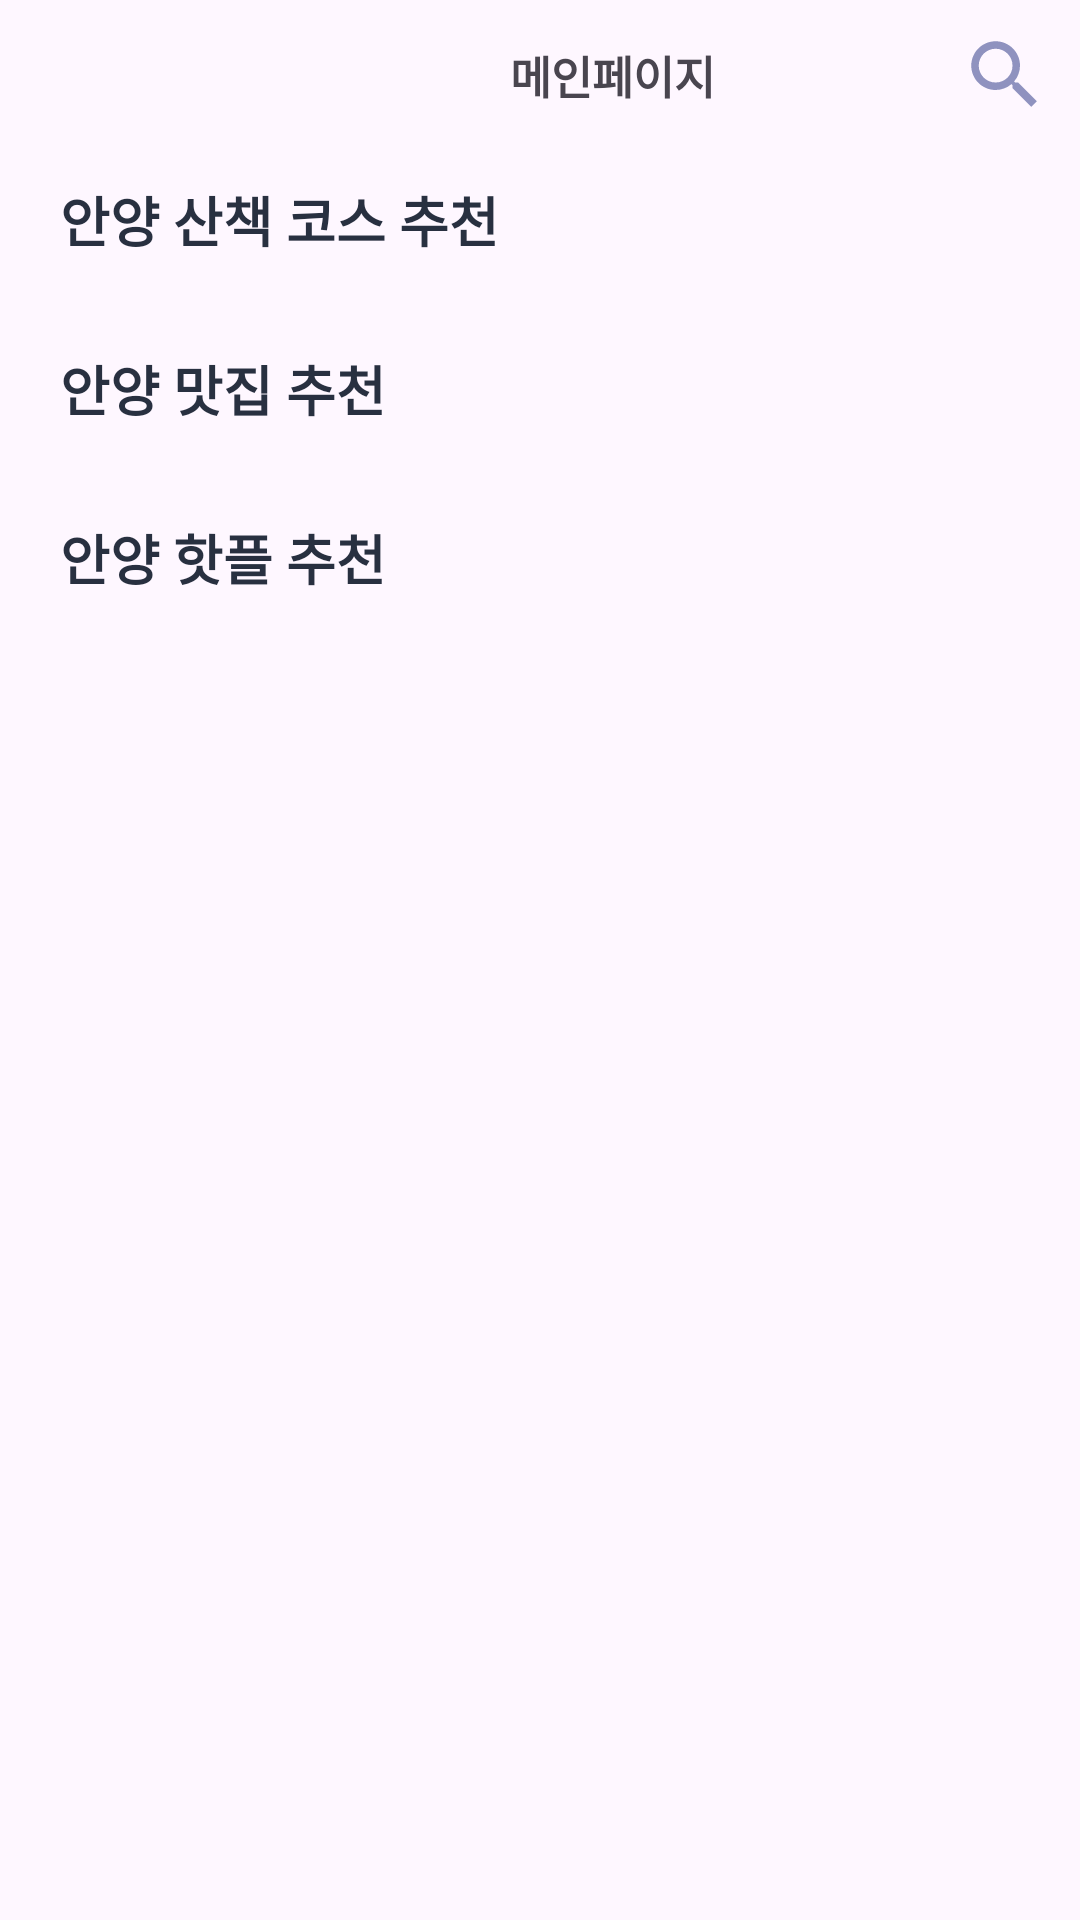

Screen size 1080px×1920px. Icon name, then its center in pixels as (x=x, y=y):
search: (x=1004, y=74)
